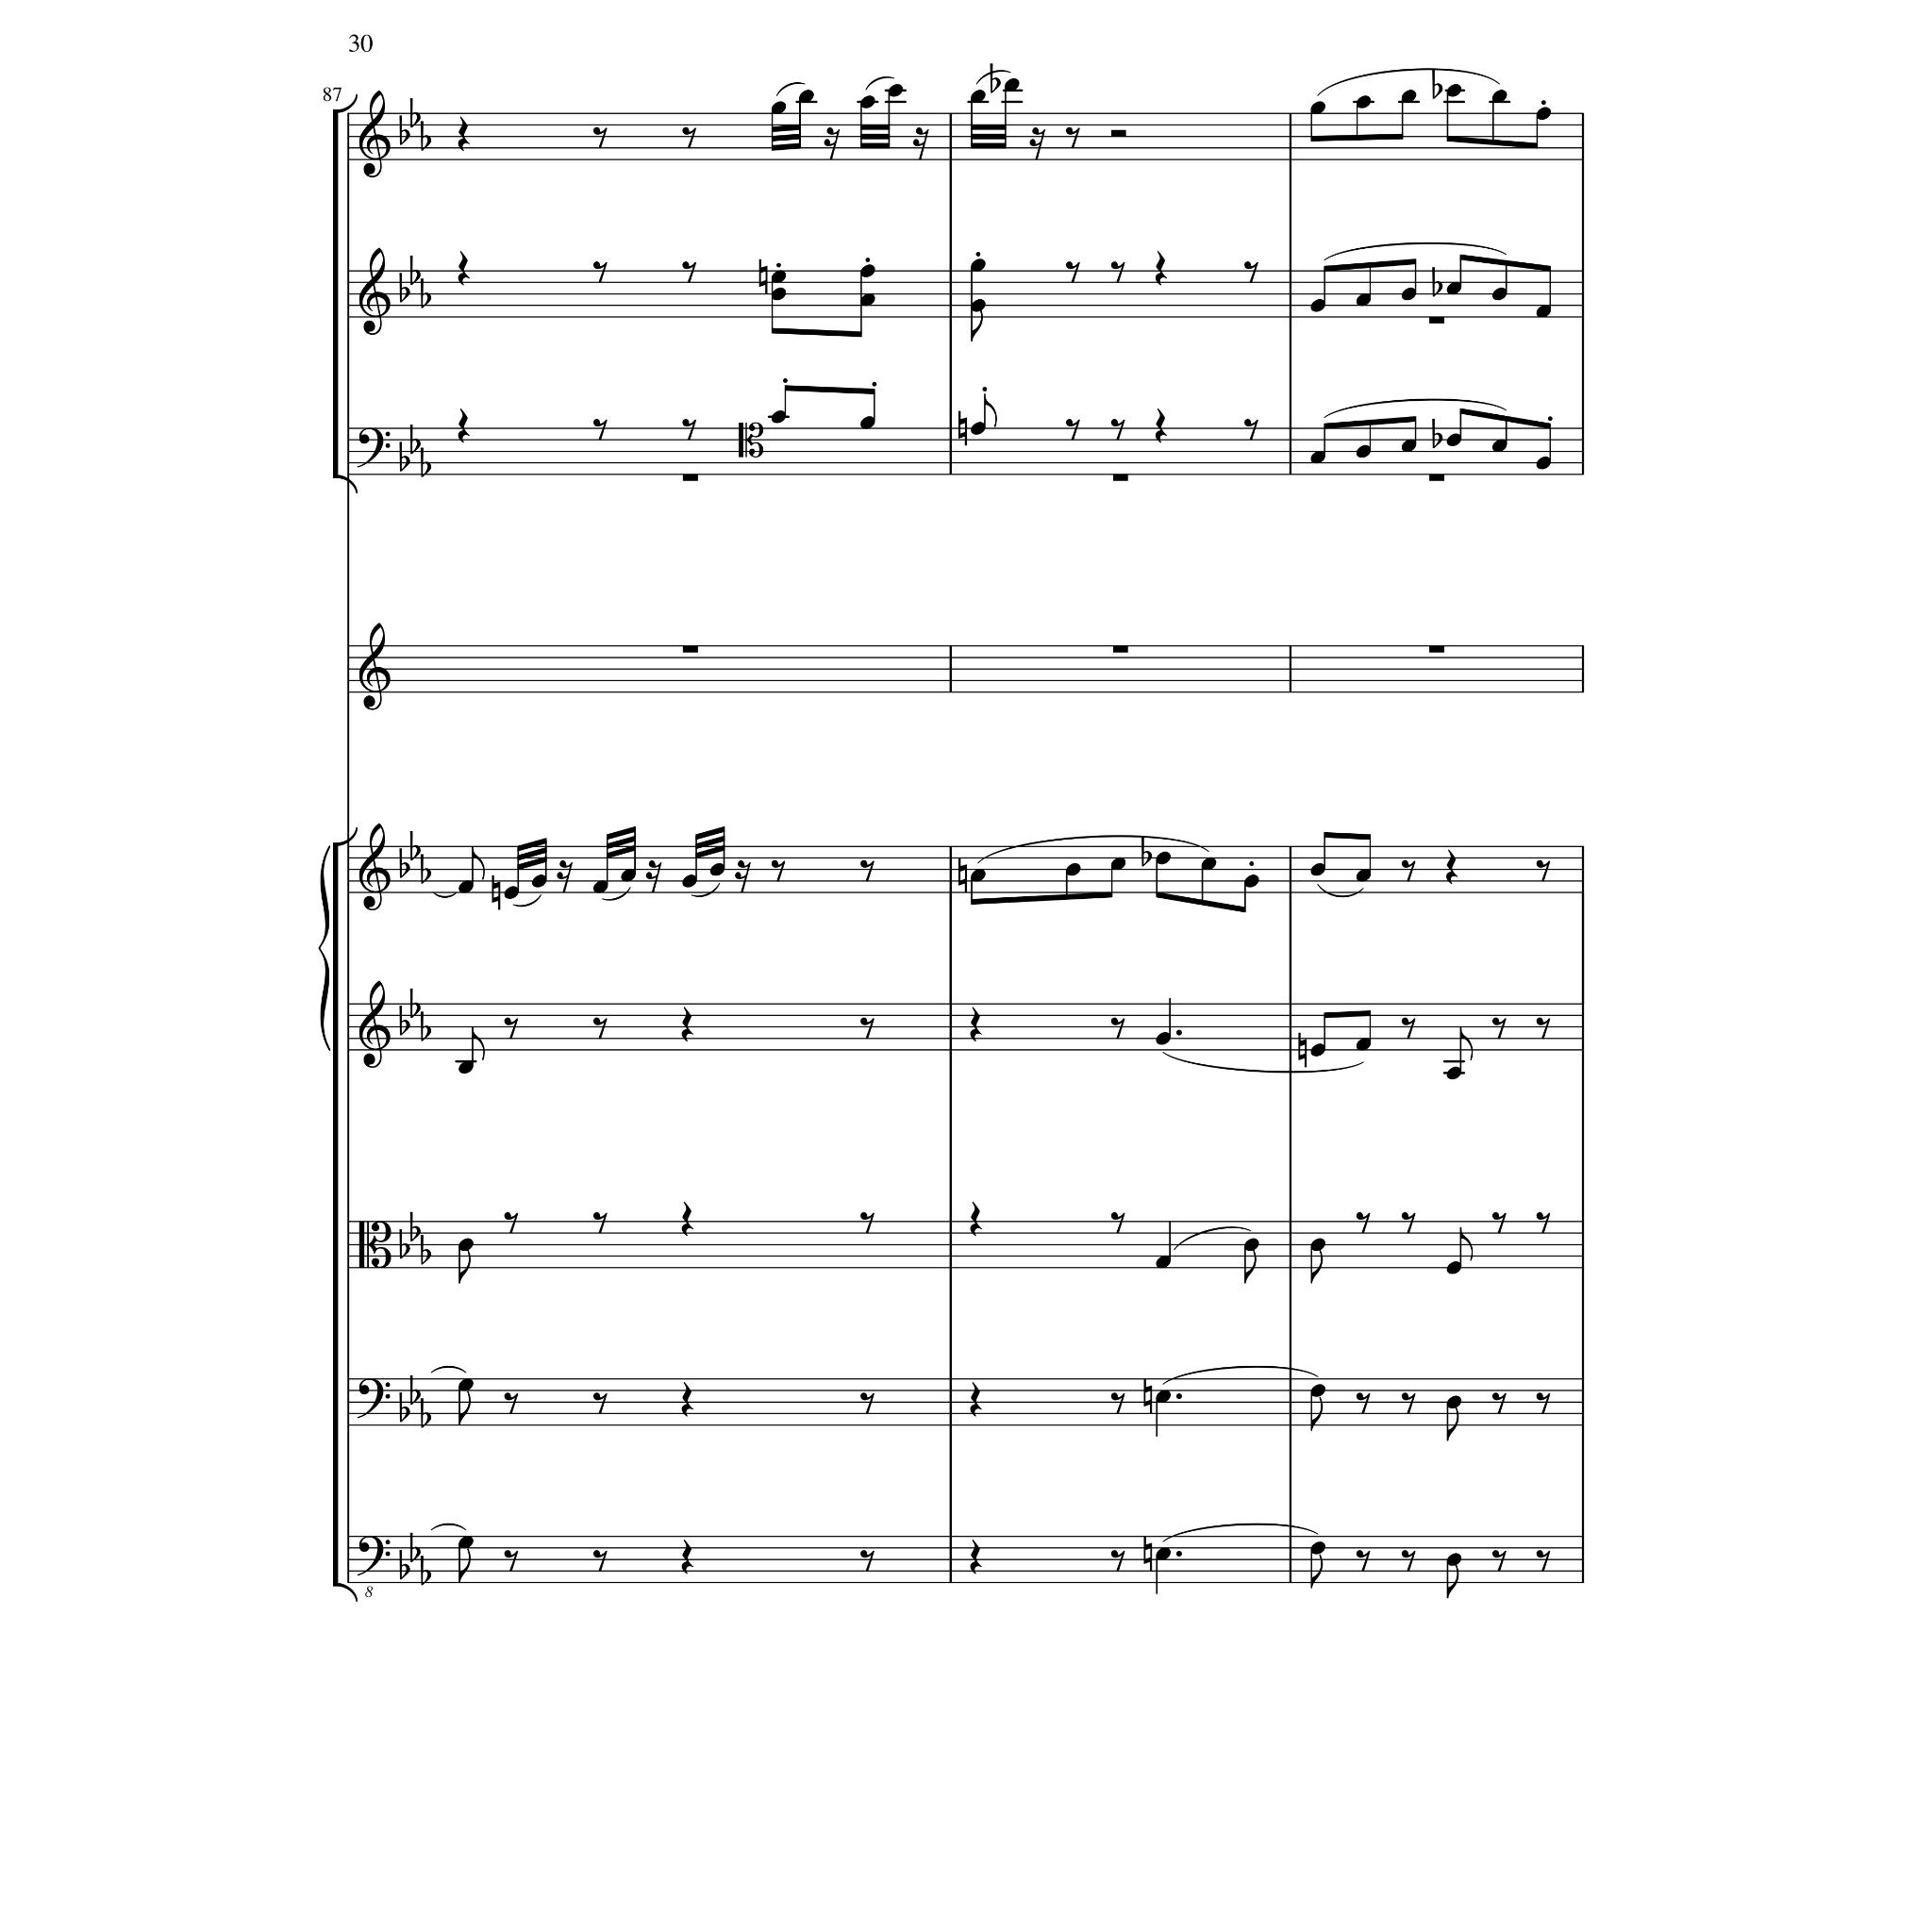brace: (317, 844, 329, 1051)
fClef: (357, 428, 391, 469), (357, 1378, 391, 1419), (357, 1536, 391, 1576)
flag8thDown: (1311, 1249, 1323, 1284), (1244, 1249, 1256, 1284), (458, 1249, 471, 1284), (458, 1391, 471, 1426), (458, 1548, 471, 1583), (1311, 1398, 1323, 1431), (1311, 1555, 1323, 1589), (1447, 1564, 1460, 1598), (1447, 1408, 1460, 1442), (970, 308, 982, 341)
flag8thUp: (984, 395, 998, 428), (1460, 1028, 1472, 1062), (1460, 1228, 1472, 1261), (472, 847, 485, 881), (472, 1028, 485, 1062)
gClef: (359, 90, 391, 179), (359, 248, 391, 336), (359, 623, 391, 711), (359, 823, 391, 911), (359, 980, 391, 1069)
noteheadBlack: (886, 83, 904, 97), (1355, 96, 1371, 110), (1355, 869, 1371, 883), (1355, 1037, 1371, 1051), (1155, 851, 1171, 865), (1155, 1031, 1171, 1046), (1155, 1389, 1171, 1403), (1155, 1546, 1171, 1560), (1244, 874, 1260, 888), (1244, 1238, 1260, 1253), (1309, 451, 1325, 465), (1309, 863, 1325, 878), (1309, 1238, 1325, 1253), (1309, 1541, 1325, 1555), (1536, 304, 1552, 318), (1536, 456, 1552, 471), (1445, 83, 1461, 97), (1445, 281, 1461, 295), (1445, 433, 1461, 448), (1445, 1067, 1461, 1081), (1445, 1396, 1461, 1410), (1401, 88, 1417, 103), (1401, 439, 1417, 453), (1491, 439, 1507, 453), (1491, 88, 1507, 103), (531, 874, 547, 888), (621, 869, 637, 883), (681, 874, 697, 888), (458, 1238, 474, 1253), (458, 1536, 474, 1550), (970, 88, 985, 103), (970, 258, 985, 272), (970, 423, 985, 437), (970, 869, 985, 883), (1065, 863, 1081, 878), (1005, 78, 1021, 92), (798, 88, 814, 103), (860, 96, 876, 110), (860, 265, 876, 280), (709, 863, 725, 878), (860, 416, 876, 430), (502, 886, 520, 899), (1355, 294, 1371, 306), (1355, 446, 1371, 458), (1155, 1256, 1171, 1269), (1109, 858, 1125, 870), (1309, 103, 1325, 115), (1309, 299, 1325, 311), (1309, 1044, 1325, 1056), (1309, 1385, 1325, 1398), (1201, 858, 1217, 870), (1536, 108, 1552, 120), (1445, 1261, 1461, 1274), (1445, 1553, 1461, 1566), (1401, 288, 1417, 301), (1491, 288, 1507, 301), (593, 881, 609, 893), (458, 881, 474, 893), (458, 1062, 474, 1074), (458, 1378, 474, 1391), (970, 299, 985, 311), (860, 294, 876, 306), (770, 103, 786, 115), (770, 288, 786, 301), (770, 271, 786, 283), (770, 410, 786, 423)
rest16th: (1028, 127, 1046, 161), (823, 127, 840, 161), (913, 127, 929, 161), (557, 862, 573, 893), (646, 862, 662, 893), (734, 862, 750, 893)
rest8th: (1355, 1212, 1371, 1235), (1355, 1392, 1371, 1415), (1355, 1550, 1371, 1573), (1536, 860, 1552, 883), (1536, 1017, 1552, 1040), (1536, 1212, 1552, 1235), (1536, 1392, 1552, 1415), (1536, 1550, 1552, 1573), (1491, 1550, 1507, 1573), (1491, 1392, 1507, 1415), (1491, 1212, 1507, 1235), (1491, 1017, 1507, 1040), (1065, 127, 1081, 150), (1065, 419, 1081, 442), (1065, 262, 1081, 283), (1111, 419, 1125, 442), (1111, 1017, 1125, 1040), (1111, 1212, 1125, 1235), (1111, 1392, 1125, 1415), (1111, 1550, 1125, 1573), (1244, 419, 1258, 442), (1401, 1392, 1415, 1415), (1401, 860, 1415, 883), (1401, 1017, 1415, 1040), (1401, 1212, 1415, 1235), (1401, 1550, 1415, 1573), (593, 1550, 607, 1573), (593, 1392, 607, 1415), (593, 1212, 607, 1235), (593, 1017, 607, 1040), (593, 419, 607, 442), (593, 127, 607, 150), (504, 1017, 518, 1040), (504, 1212, 518, 1235), (504, 1392, 518, 1415), (504, 1550, 518, 1573), (683, 127, 697, 150), (683, 419, 697, 442), (771, 860, 786, 883), (860, 1392, 874, 1415), (860, 1550, 874, 1573), (860, 1212, 874, 1235), (860, 1017, 874, 1040), (860, 860, 874, 883), (1244, 262, 1258, 283), (593, 262, 607, 283), (1111, 262, 1125, 283), (683, 262, 697, 283)
restHalf: (1109, 131, 1125, 138)
restQuarter: (456, 117, 471, 152), (456, 251, 471, 287), (456, 409, 471, 444), (1154, 251, 1166, 287), (1154, 409, 1166, 444), (1445, 849, 1458, 885), (681, 1539, 694, 1575), (681, 1382, 694, 1417), (681, 1007, 694, 1042), (681, 1201, 694, 1237), (970, 1539, 982, 1575), (970, 1007, 982, 1042), (970, 1201, 982, 1237), (970, 1382, 982, 1417)
restWhole: (1111, 646, 1127, 655), (1430, 646, 1445, 655), (683, 646, 699, 655), (1111, 474, 1127, 481), (1430, 474, 1445, 481), (1430, 317, 1445, 324), (683, 474, 699, 481)
